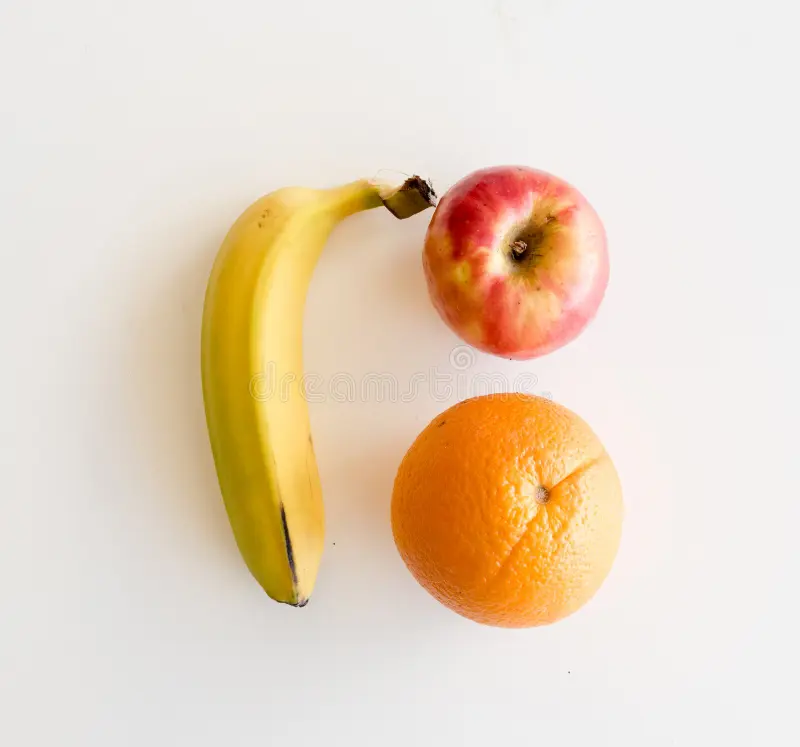apple: (418, 158, 612, 360)
banana: (200, 147, 577, 287)
orange: (386, 388, 628, 629)
